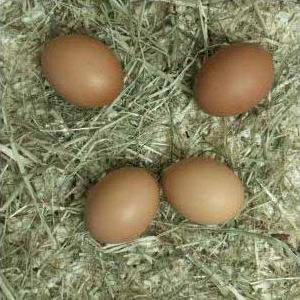egg: (85, 165, 160, 245), (42, 35, 125, 107), (195, 43, 275, 117), (161, 157, 246, 224)
